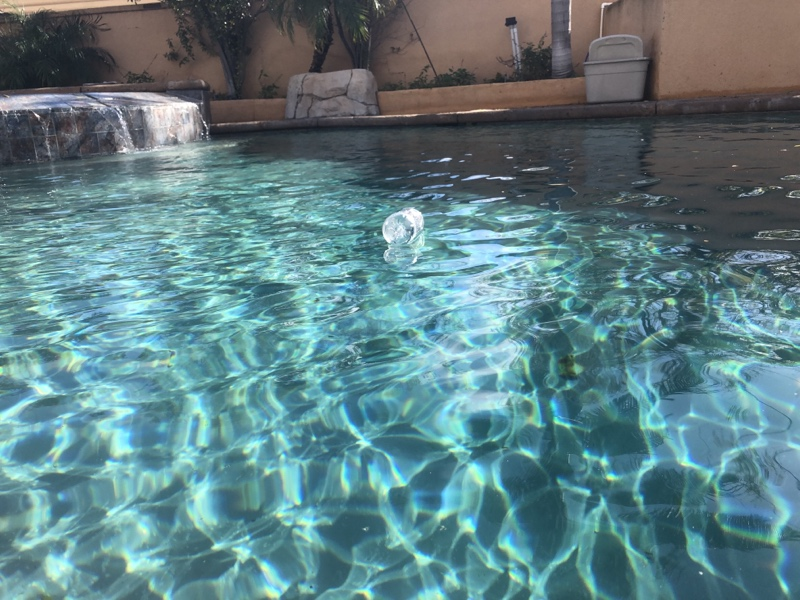Plastic Bottle: (379, 206, 426, 249)
